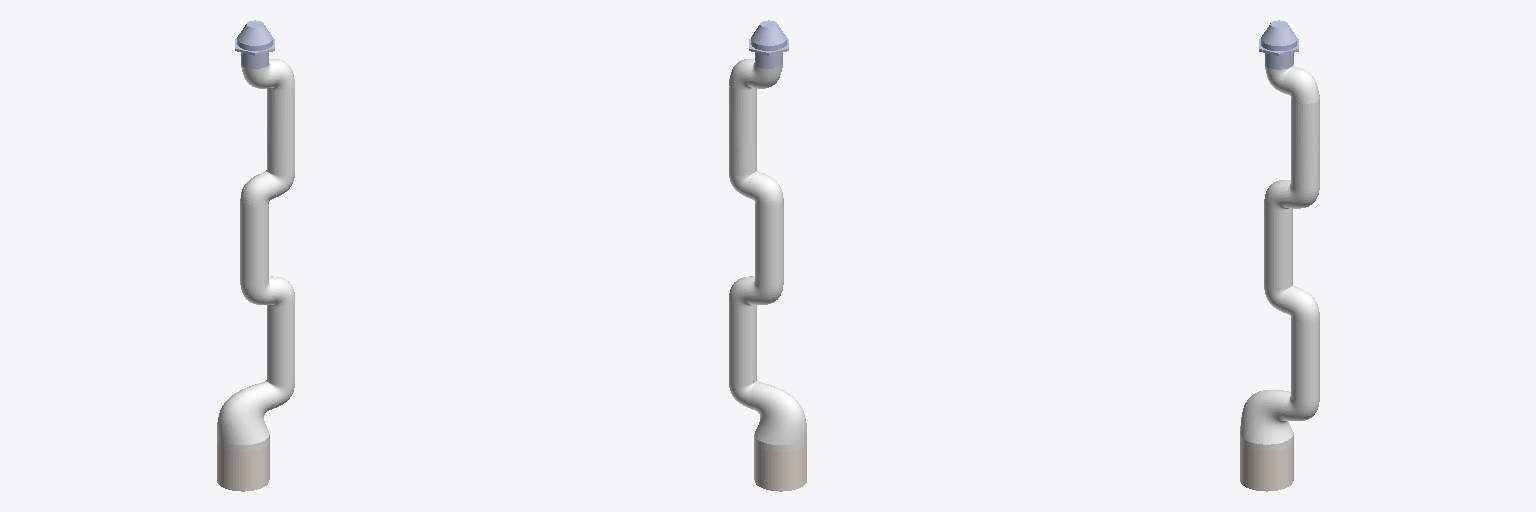
robot.urdf — nemo1:
<?xml version="1.0" encoding="utf-8"?>
<!-- This URDF was automatically created by SolidWorks to URDF Exporter! Originally created by Stephen Brawner (brawner@gmail.com) 
     Commit Version: 1.6.0-4-g7f85cfe  Build Version: 1.6.7995.38578
     For more information, please see http://wiki.ros.org/sw_urdf_exporter -->
<robot name="nemo1">
  <!-- adding fixed frame for gz sim -->
  <link name="world"/>

<!-- Virtual Joint to fix robot to ISS -->
  <joint name="fixedFrameToWorld" type="fixed">
    <parent link="world"/>
    <child link="nemo_base_link"/>
    <origin rpy="0.0 0.0 0.0" xyz="89.8 -0.6 -35.2"/>
  </joint>


  <link
    name="nemo_base_link">
    <inertial>
      <origin
        xyz="-4.0251E-17 5.7935E-34 0.24074"
        rpy="0 0 0" />
      <mass
        value="39.819" />
      <inertia
        ixx="0.95808"
        ixy="9.1833E-33"
        ixz="1.4543E-18"
        iyy="0.95808"
        iyz="-2.0879E-32"
        izz="0.84991" />
    </inertial>
    <visual>
      <origin
        xyz="0 0 0"
        rpy="0 0 0" />
      <geometry>
        <mesh
          filename="package://nemo1_description/meshes/base_link.STL" />
      </geometry>
      <material
        name="">
        <color
          rgba="1 0.95686 0.92941 1" />
      </material>
    </visual>
    <collision>
      <origin
        xyz="0 0 0"
        rpy="0 0 0" />
      <geometry>
        <mesh
          filename="package://nemo1_description/meshes/base_link.STL" />
      </geometry>
    </collision>
  </link>
  <link
    name="link_1">
    <inertial>
      <origin
        xyz="0.010338 -0.0004773 0.18391"
        rpy="0 0 0" />
      <mass
        value="49.442" />
      <inertia
        ixx="0.72708"
        ixy="0.0024865"
        ixz="-0.12127"
        iyy="0.89497"
        iyz="-0.00065038"
        izz="0.71565" />
    </inertial>
    <visual>
      <origin
        xyz="0 0 0"
        rpy="0 0 0" />
      <geometry>
        <mesh
          filename="package://nemo1_description/meshes/link_1.STL" />
      </geometry>
      <material
        name="">
        <color
          rgba="1 1 1 1" />
      </material>
    </visual>
    <collision>
      <origin
        xyz="0 0 0"
        rpy="0 0 0" />
      <geometry>
        <mesh
          filename="package://nemo1_description/meshes/link_1.STL" />
      </geometry>
    </collision>
  </link>
  <joint
    name="J1"
    type="revolute">
    <origin
      xyz="0 0 0.305"
      rpy="0 0 0" />
    <parent
      link="nemo_base_link" />
    <child
      link="link_1" />
    <axis
      xyz="0 0 1" />
    <limit
      lower="-3.14"
      upper="3.14"
      effort="2000"
      velocity="0.8" />
  </joint>
  <link
    name="link_2">
    <inertial>
      <origin
        xyz="-0.405 -7.1675E-05 0.1354"
        rpy="0 0 0" />
      <mass
        value="23.562" />
      <inertia
        ixx="0.13291"
        ixy="-7.5138E-07"
        ixz="2.3007E-07"
        iyy="3.415"
        iyz="5.699E-05"
        izz="3.4052" />
    </inertial>
    <visual>
      <origin
        xyz="0 0 0"
        rpy="0 0 0" />
      <geometry>
        <mesh
          filename="package://nemo1_description/meshes/link_2.STL" />
      </geometry>
      <material
        name="">
        <color
          rgba="1 1 1 1" />
      </material>
    </visual>
    <collision>
      <origin
        xyz="0 0 0"
        rpy="0 0 0" />
      <geometry>
        <mesh
          filename="package://nemo1_description/meshes/link_2.STL" />
      </geometry>
    </collision>
  </link>
  <joint
    name="J2"
    type="revolute">
    <origin
      xyz="0.15 0 0.3"
      rpy="0 1.5707963267949 0" />
    <parent
      link="link_1" />
    <child
      link="link_2" />
    <axis
      xyz="0 0 -1" />
    <limit
      lower="-3.14"
      upper="3.14"
      effort="2000"
      velocity="0.8" />
  </joint>
  <link
    name="link_3">
    <inertial>
      <origin
        xyz="-0.41186 -7.289E-05 -0.086846"
        rpy="0 0 0" />
      <mass
        value="23.169" />
      <inertia
        ixx="0.12961"
        ixy="1.2349E-05"
        ixz="0.013812"
        iyy="3.3462"
        iyz="-5.4544E-05"
        izz="3.3396" />
    </inertial>
    <visual>
      <origin
        xyz="0 0 0"
        rpy="0 0 0" />
      <geometry>
        <mesh
          filename="package://nemo1_description/meshes/link_3.STL" />
      </geometry>
      <material
        name="">
        <color
          rgba="1 1 1 1" />
      </material>
    </visual>
    <collision>
      <origin
        xyz="0 0 0"
        rpy="0 0 0" />
      <geometry>
        <mesh
          filename="package://nemo1_description/meshes/link_3.STL" />
      </geometry>
    </collision>
  </link>
  <joint
    name="J3"
    type="revolute">
    <origin
      xyz="-0.81 0 0.05"
      rpy="0 0 0" />
    <parent
      link="link_2" />
    <child
      link="link_3" />
    <axis
      xyz="0 0 -1" />
    <limit
      lower="-3.14"
      upper="3.14"
      effort="2000"
      velocity="0.8" />
  </joint>
  <link
    name="link_4">
    <inertial>
      <origin
        xyz="-0.20303 5.5903E-05 0.093029"
        rpy="0 0 0" />
      <mass
        value="15.206" />
      <inertia
        ixx="0.087692"
        ixy="-0.00022912"
        ixz="0.046098"
        iyy="1.3816"
        iyz="-2.2268E-05"
        izz="1.3789" />
    </inertial>
    <visual>
      <origin
        xyz="0 0 0"
        rpy="0 0 0" />
      <geometry>
        <mesh
          filename="package://nemo1_description/meshes/link_4.STL" />
      </geometry>
      <material
        name="">
        <color
          rgba="1 1 1 1" />
      </material>
    </visual>
    <collision>
      <origin
        xyz="0 0 0"
        rpy="0 0 0" />
      <geometry>
        <mesh
          filename="package://nemo1_description/meshes/link_4.STL" />
      </geometry>
    </collision>
  </link>
  <joint
    name="J4"
    type="revolute">
    <origin
      xyz="-0.81 0 0"
      rpy="0 0 0" />
    <parent
      link="link_3" />
    <child
      link="link_4" />
    <axis
      xyz="0 0 1" />
    <limit
      lower="-3.14"
      upper="3.14"
      effort="2000"
      velocity="0.8" />
  </joint>
  <link
    name="link_5">
    <inertial>
      <origin
        xyz="0.023474 7.7273E-05 0.13435"
        rpy="0 0 0" />
      <mass
        value="11.232" />
      <inertia
        ixx="0.058934"
        ixy="7.6333E-05"
        ixz="-0.0089365"
        iyy="0.06121"
        iyz="-3.0975E-05"
        izz="0.056584" />
    </inertial>
    <visual>
      <origin
        xyz="0 0 0"
        rpy="0 0 0" />
      <geometry>
        <mesh
          filename="package://nemo1_description/meshes/link_5.STL" />
      </geometry>
      <material
        name="">
        <color
          rgba="1 1 1 1" />
      </material>
    </visual>
    <collision>
      <origin
        xyz="0 0 0"
        rpy="0 0 0" />
      <geometry>
        <mesh
          filename="package://nemo1_description/meshes/link_5.STL" />
      </geometry>
    </collision>
  </link>
  <joint
    name="J5"
    type="revolute">
    <origin
      xyz="-0.707 0 0.107"
      rpy="3.14159265358979 1.5707963267949 0" />
    <parent
      link="link_4" />
    <child
      link="link_5" />
    <axis
      xyz="0 0 -1" />
    <limit
      lower="-3.14"
      upper="3.14"
      effort="2000"
      velocity="0.8" />
  </joint>
  <link
    name="link_6">
    <inertial>
      <origin
        xyz="-0.023472 8.0222E-05 0.08448"
        rpy="0 0 0" />
      <mass
        value="10.839" />
      <inertia
        ixx="0.053489"
        ixy="-3.1793E-05"
        ixz="0.0081853"
        iyy="0.057908"
        iyz="-7.3889E-05"
        izz="0.058602" />
    </inertial>
    <visual>
      <origin
        xyz="0 0 0"
        rpy="0 0 0" />
      <geometry>
        <mesh
          filename="package://nemo1_description/meshes/link_6.STL" />
      </geometry>
      <material
        name="">
        <color
          rgba="1 1 1 1" />
      </material>
    </visual>
    <collision>
      <origin
        xyz="0 0 0"
        rpy="0 0 0" />
      <geometry>
        <mesh
          filename="package://nemo1_description/meshes/link_6.STL" />
      </geometry>
    </collision>
  </link>
  <joint
    name="J6"
    type="revolute">
    <origin
      xyz="0.105 0 0.157"
      rpy="0 1.5708 0" />
    <parent
      link="link_5" />
    <child
      link="link_6" />
    <axis
      xyz="0 0 1" />
    <limit
      lower="-3.14"
      upper="3.14"
      effort="2000"
      velocity="0.8" />
  </joint>
  <link
    name="EE">
    <inertial>
      <origin
        xyz="-3.8804E-08 -1.3523E-08 0.14436"
        rpy="0 0 0" />
      <mass
        value="10.348" />
      <inertia
        ixx="0.090992"
        ixy="-1.3474E-08"
        ixz="5.0453E-08"
        iyy="0.090992"
        iyz="1.7583E-08"
        izz="0.066002" />
    </inertial>
    <visual>
      <origin
        xyz="0 0 0"
        rpy="0 0 0" />
      <geometry>
        <mesh
          filename="package://nemo1_description/meshes/EE.STL" />
      </geometry>
      <material
        name="">
        <color
          rgba="0.79216 0.81961 0.93333 1" />
      </material>
    </visual>
    <collision>
      <origin
        xyz="0 0 0"
        rpy="0 0 0" />
      <geometry>
        <mesh
          filename="package://nemo1_description/meshes/EE.STL" />
      </geometry>
    </collision>
  </link>
  <joint
    name="J7"
    type="revolute">
    <origin
      xyz="-0.107 0 0.105"
      rpy="3.14159265358979 1.5707963267949 0" />
    <parent
      link="link_6" />
    <child
      link="EE" />
    <axis
      xyz="0 0 1" />
    <limit
      lower="-3.14"
      upper="3.14"
      effort="2000"
      velocity="0.8" />
  </joint>
</robot>

--- Facts derived from the render (not from the file) ---
3 views of the same robot in one strip: view 1: azimuth 30°, elevation 25°; view 2: azimuth 150°, elevation 25°; view 3: azimuth 330°, elevation 25° (orthographic).
Robot: nemo1 — 9 links, 8 joints (7 revolute, 1 fixed); root link world; default pose: all joints at 0.
Links seen in each view (by area): view 1: link_3, link_2, link_1, link_4, nemo_base_link, EE, link_6, link_5; view 2: link_3, link_2, link_1, link_4, nemo_base_link, EE, link_6, link_5; view 3: link_2, link_3, link_4, link_1, nemo_base_link, EE, link_5.
Link boxes in pixels (x1,y1,x2,y2): link_3: (240, 172, 274, 304); link_2: (265, 276, 294, 408); link_1: (217, 382, 274, 451); link_4: (265, 87, 294, 198); nemo_base_link: (217, 441, 269, 491); EE: (235, 20, 274, 68); link_6: (241, 62, 274, 88); link_5: (269, 59, 294, 89); link_3: (749, 172, 783, 304); link_2: (729, 276, 758, 408); link_1: (749, 382, 806, 451); link_4: (729, 86, 758, 198); nemo_base_link: (754, 441, 806, 491); EE: (749, 20, 788, 68); link_6: (749, 62, 782, 88); link_5: (729, 59, 754, 89); link_2: (1285, 286, 1319, 420); link_3: (1264, 180, 1293, 313); link_4: (1285, 99, 1319, 208); link_1: (1240, 390, 1293, 450); nemo_base_link: (1240, 441, 1293, 491); EE: (1259, 20, 1298, 69); link_5: (1285, 67, 1319, 103).
Bounding box of the posed robot: 0.5921 × 0.3699 × 3.5 m (x, y, z).
Meshes: 8 distinct files referenced, 8 mesh visuals loaded (8 binary STL).
